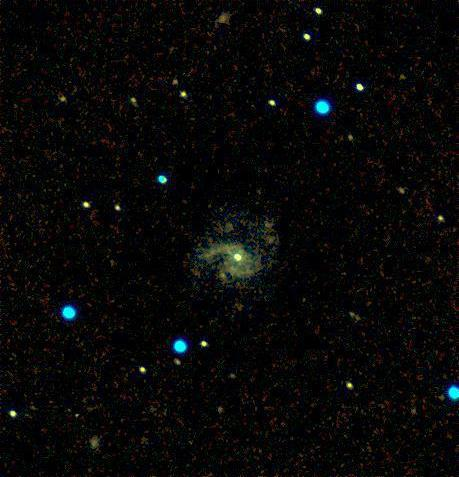star: (206, 263, 236, 293)
